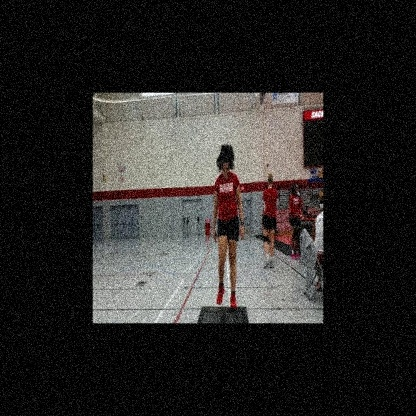lateral_flexion_right: (212, 140, 245, 316)
stance_width_narrow: (212, 171, 244, 316)
